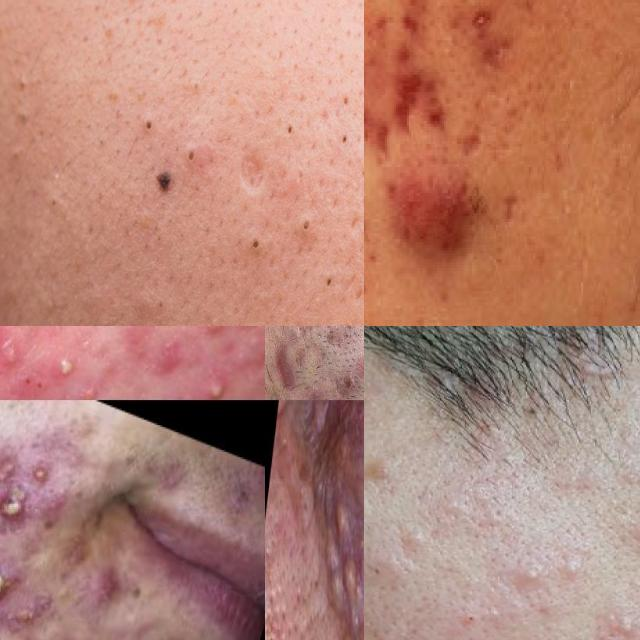acne_scars: (265, 329, 305, 399)
comedone: (404, 515, 454, 563), (146, 164, 179, 206), (513, 564, 548, 600), (293, 471, 311, 538), (555, 554, 588, 590), (319, 268, 340, 300), (245, 232, 266, 261), (141, 118, 160, 143), (298, 214, 318, 235)
cystic: (67, 548, 158, 634)
papule: (210, 326, 264, 399), (66, 362, 113, 400), (183, 326, 234, 355)
pustule: (185, 347, 246, 400), (43, 338, 89, 397)
sebo-crystan-conglo: (0, 421, 81, 541), (0, 515, 41, 613), (0, 326, 42, 392), (186, 362, 250, 400)
syringoma: (316, 464, 364, 640)
